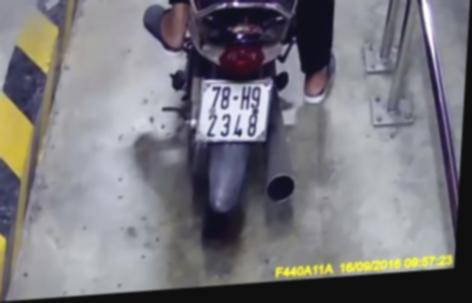License_Plate: (188, 70, 278, 153)
